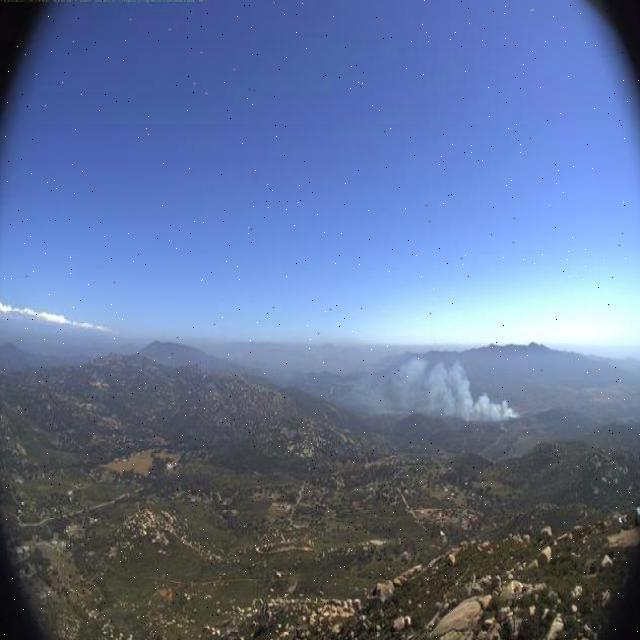smoke: (338, 352, 521, 424)
